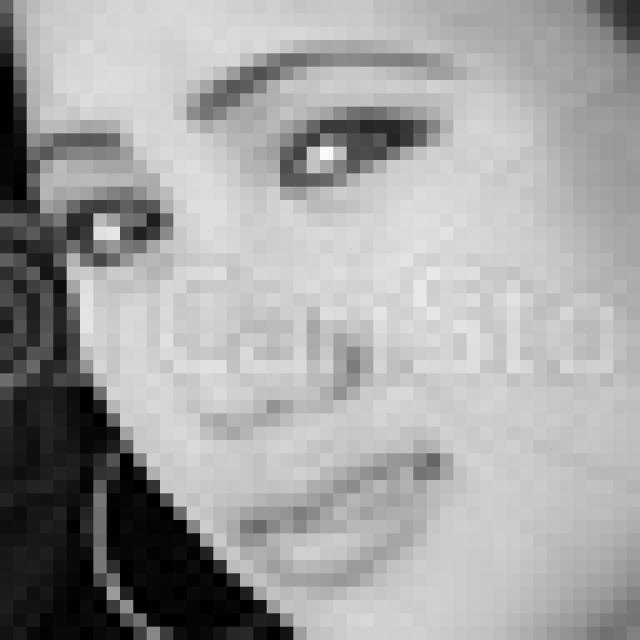disgust: (28, 38, 474, 601)
